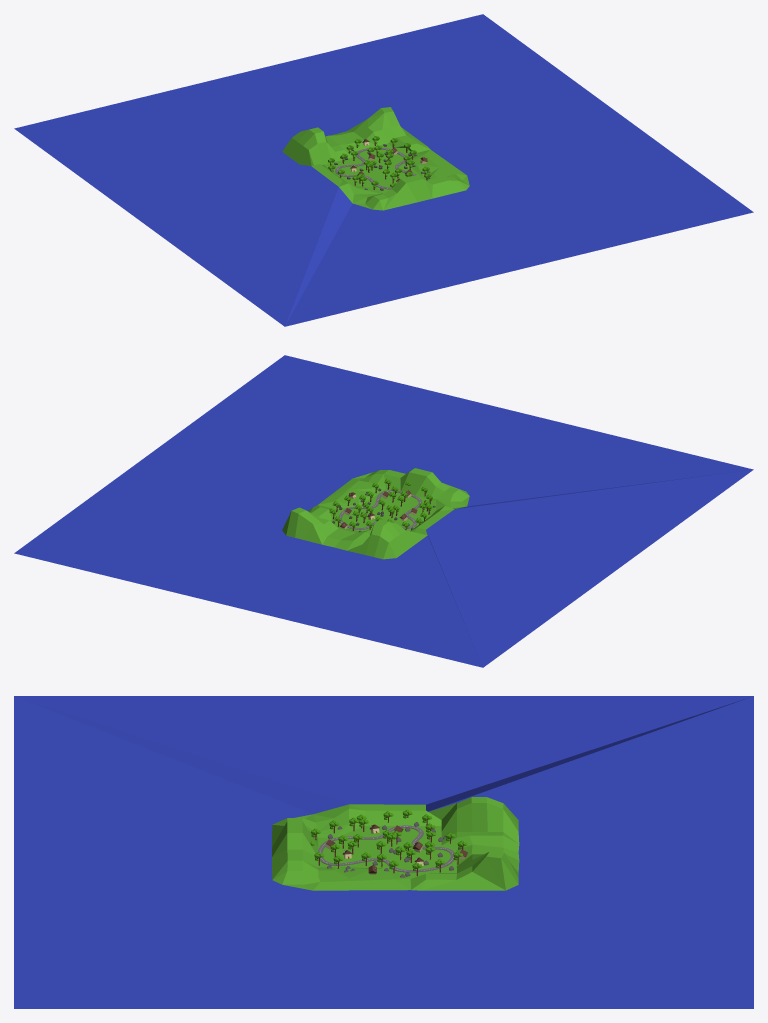
Rendered from NewTrack.fbx.
3 views of the same model, one above another, from view 1: azimuth 30°, elevation 25°; view 2: azimuth 150°, elevation 25°; view 3: azimuth 270°, elevation 25° (orthographic). The views are drawn at different scales.
Visible parts, largest first — view 1: Ground, Tree.001; view 2: Ground, Tree.001; view 3: Ground, Tree.001, Road.
Boxes of the visible parts, left/top/right/bottom form: Ground: left=14, top=14, right=753, bottom=326; Tree.001: left=328, top=136, right=431, bottom=189; Ground: left=14, top=355, right=753, bottom=667; Tree.001: left=329, top=478, right=432, bottom=530; Ground: left=14, top=696, right=753, bottom=1008; Tree.001: left=310, top=809, right=467, bottom=876; Road: left=317, top=825, right=454, bottom=872.
Bounding box in the file's own units: 1194 × 56.19 × 1194.
